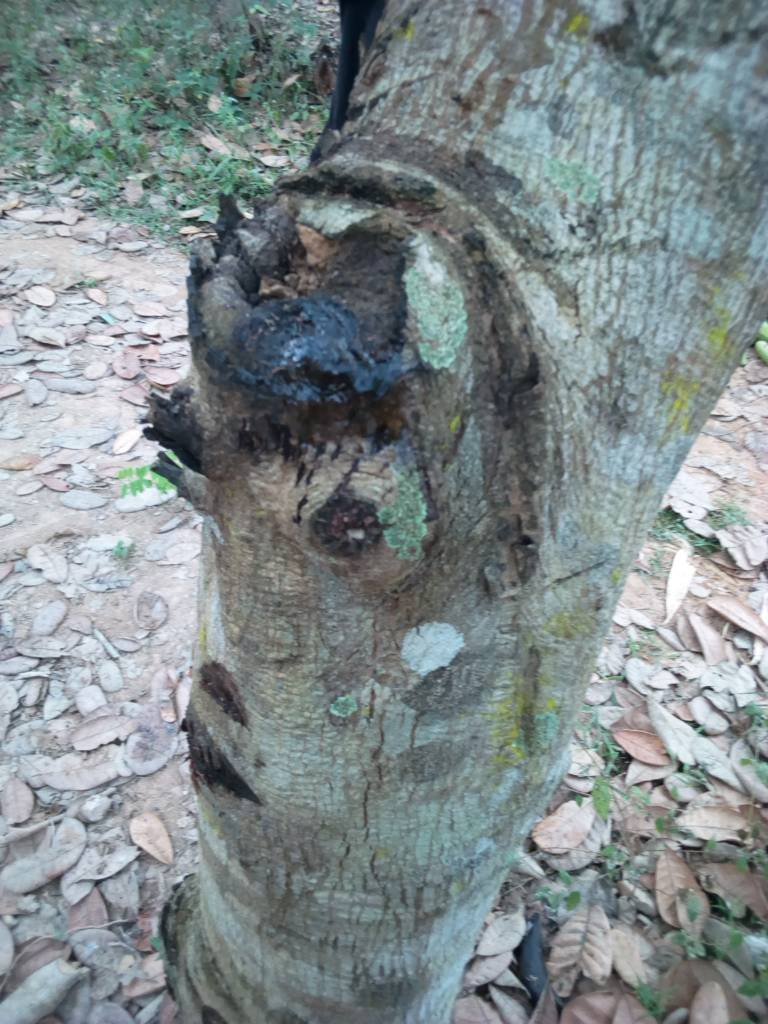Gommose: (210, 271, 418, 444)
